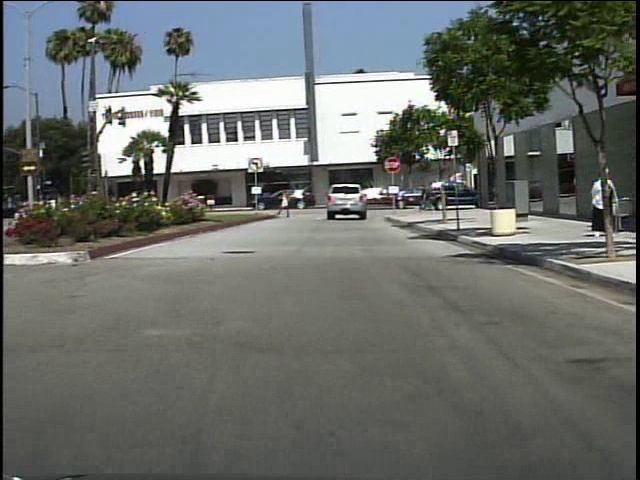person: (588, 168, 618, 239), (277, 183, 297, 219), (419, 180, 431, 215)
